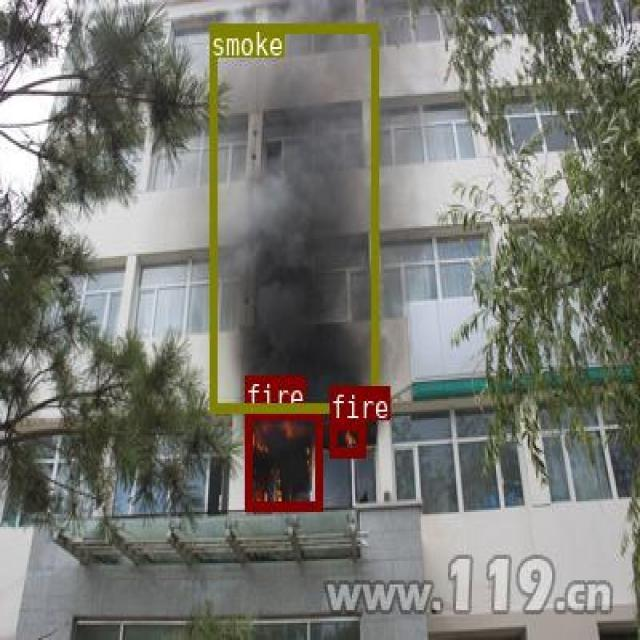fire: (244, 408, 321, 508), (329, 419, 364, 456)
smoke: (209, 23, 376, 411)
